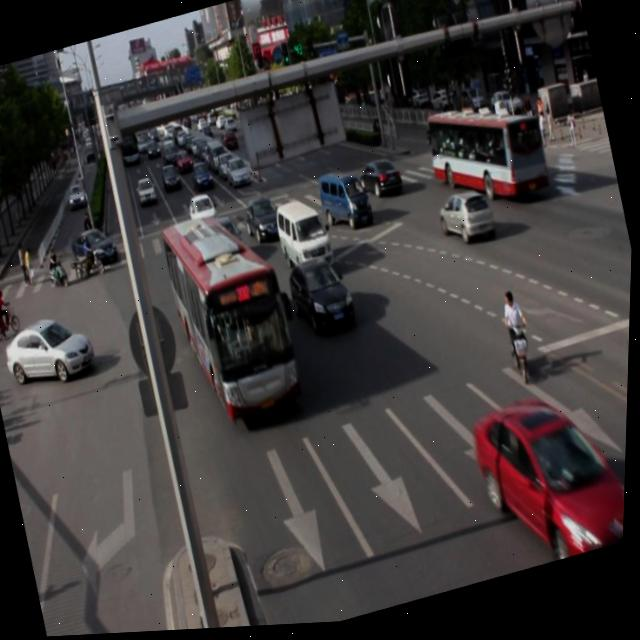car: (467, 378, 631, 582), (285, 251, 360, 340), (434, 188, 498, 254), (242, 193, 286, 246), (356, 156, 403, 205)
truck: (271, 195, 337, 282), (316, 167, 374, 236)
van: (156, 199, 310, 431), (421, 91, 553, 221)
